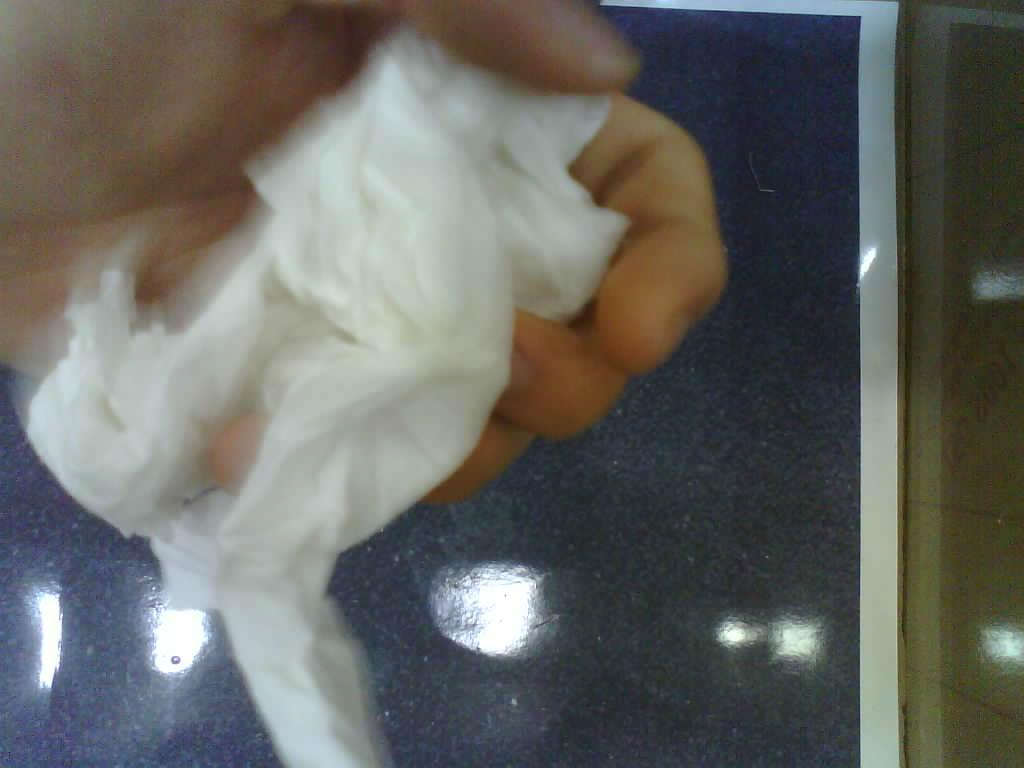paper: (26, 28, 628, 764)
